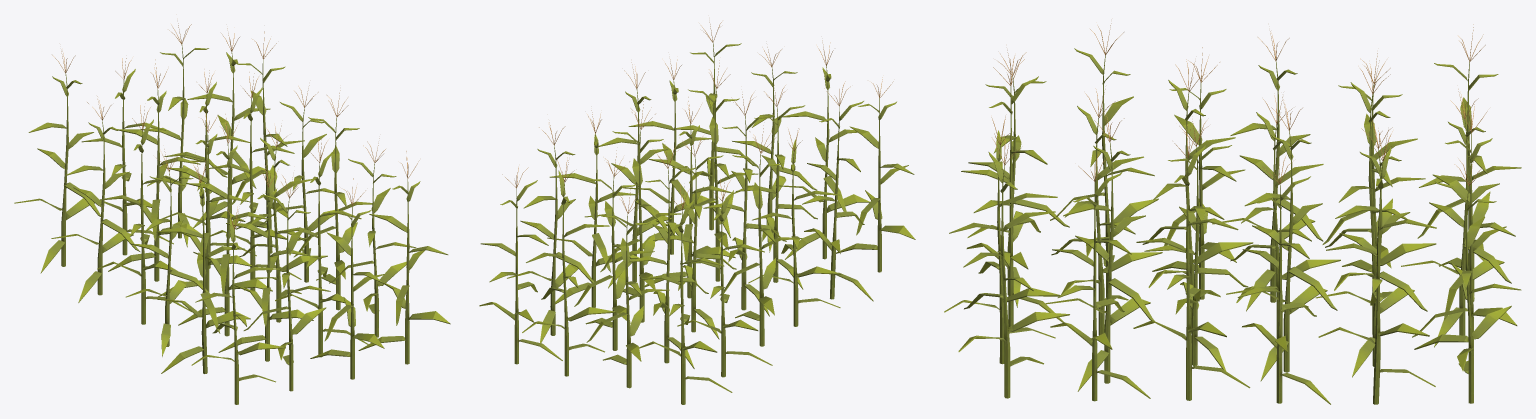
File: crop.glb
3 views of the same model, side by side, from view 1: azimuth 30°, elevation 25°; view 2: azimuth 150°, elevation 25°; view 3: azimuth 270°, elevation 25° (orthographic). The views are drawn at different scales.
Parts seen in each view (by area): view 1: FieldOfCorn_mesh; view 2: FieldOfCorn_mesh; view 3: FieldOfCorn_mesh.
Part boxes in pixels (box(x1,y1,x2,y2)): FieldOfCorn_mesh: box(14, 23, 450, 404); FieldOfCorn_mesh: box(479, 22, 915, 404); FieldOfCorn_mesh: box(944, 23, 1521, 404).
Bounding box in the file's own units: 15.73 × 13.52 × 24.11.
Materials: 1 (1 with a texture image).
